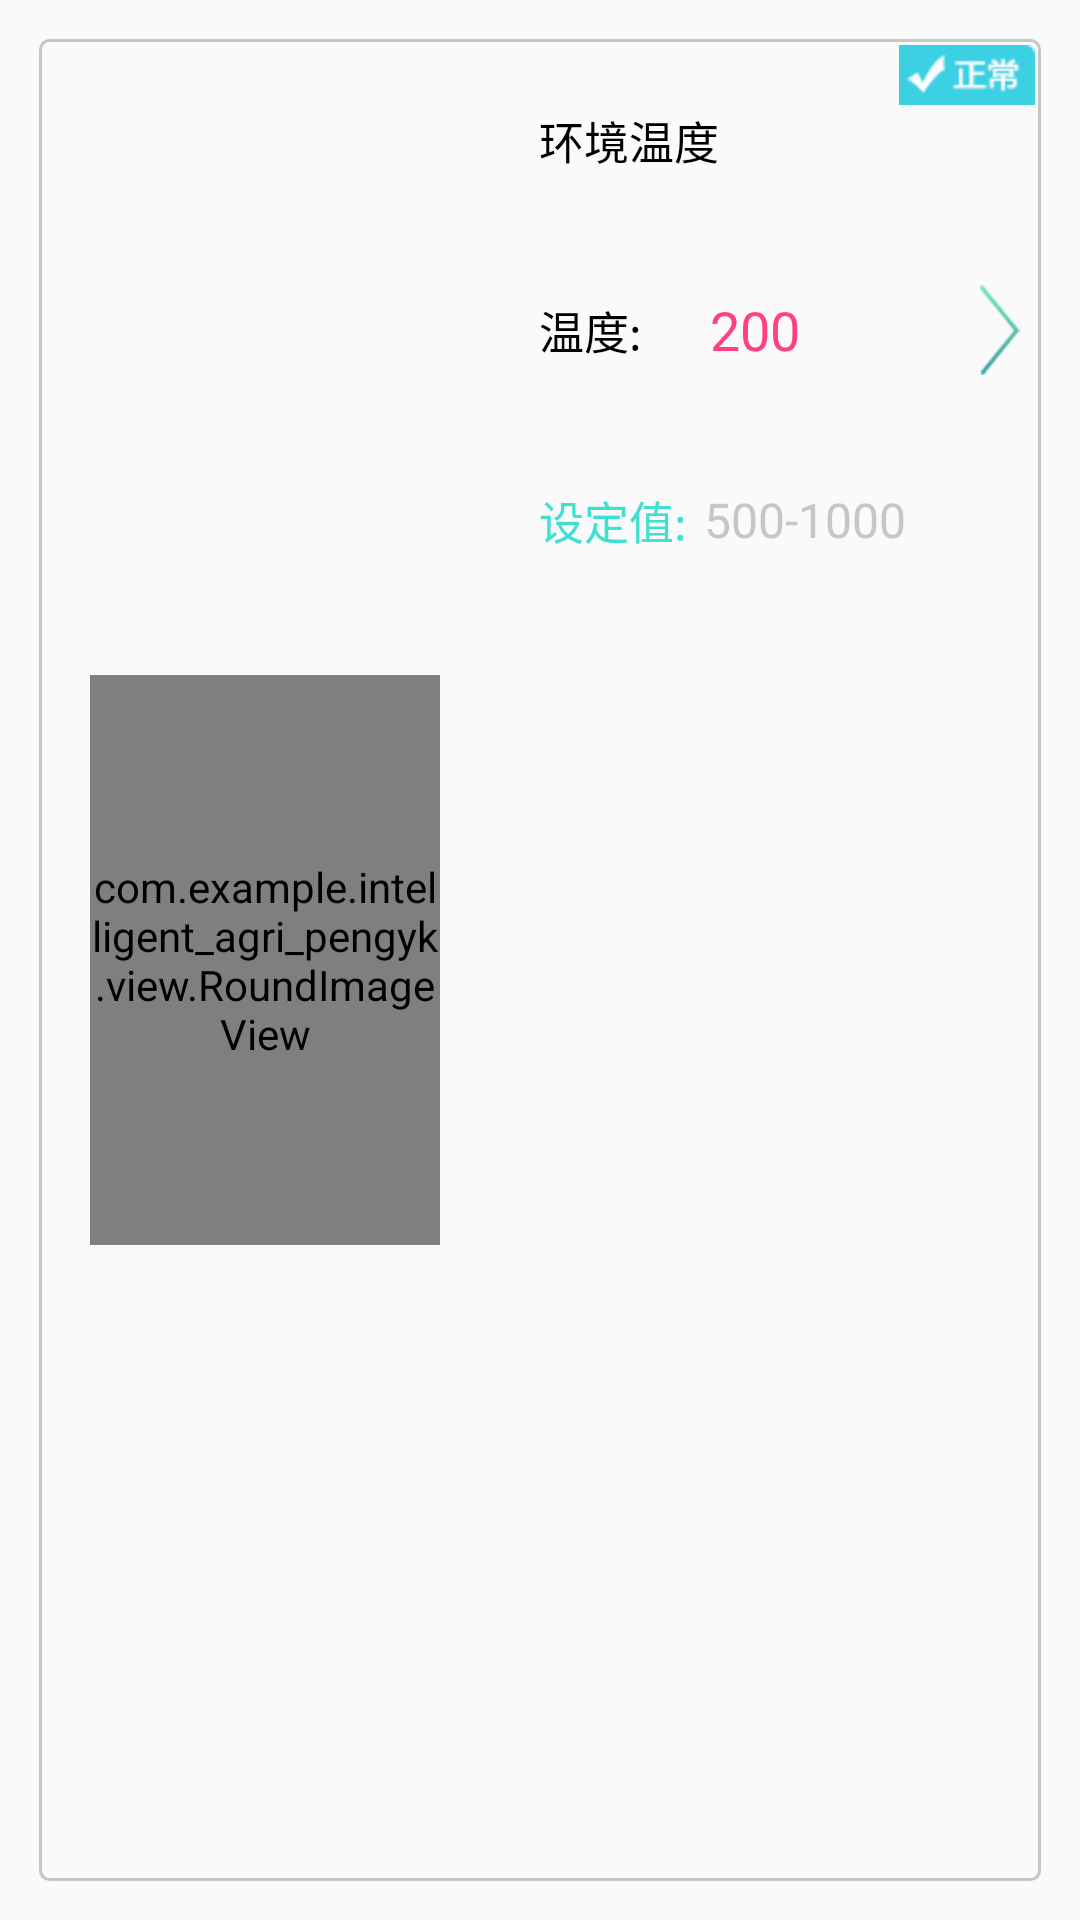

Icons on this 1080w x 1920h Android screen, each with the point to tap as (x=x, y=y):
right: (x=1000, y=330)
